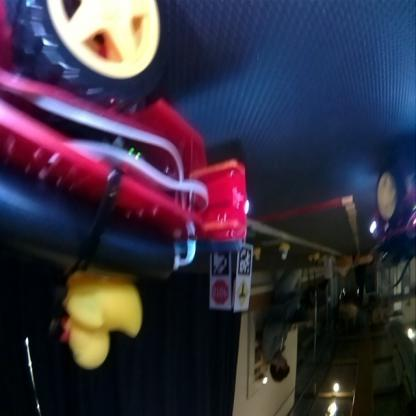Duckie: (60, 271, 140, 370), (254, 250, 260, 262)
Duckiebot: (0, 4, 210, 272), (370, 167, 415, 268)
Intersection sign: (235, 280, 249, 308)
QR code: (210, 250, 228, 278)
Stop sign: (211, 280, 228, 306)
